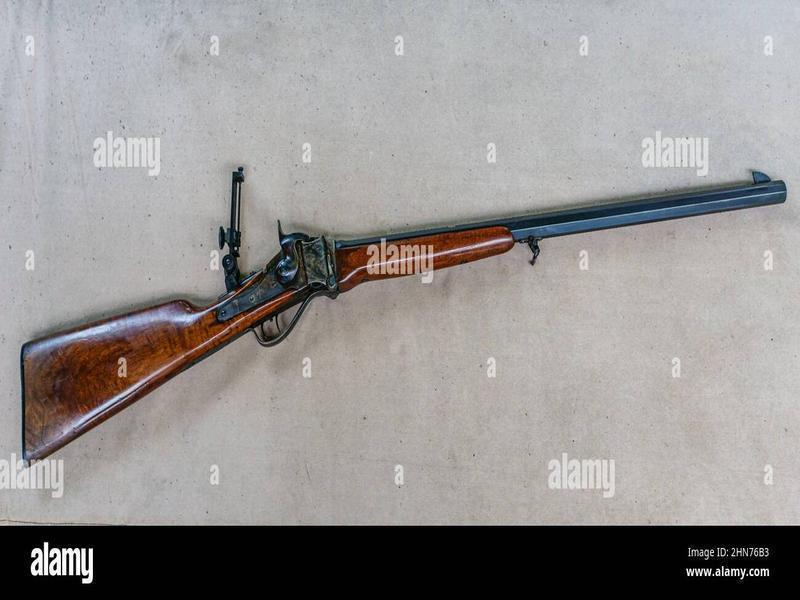GUN: (12, 159, 794, 471)
